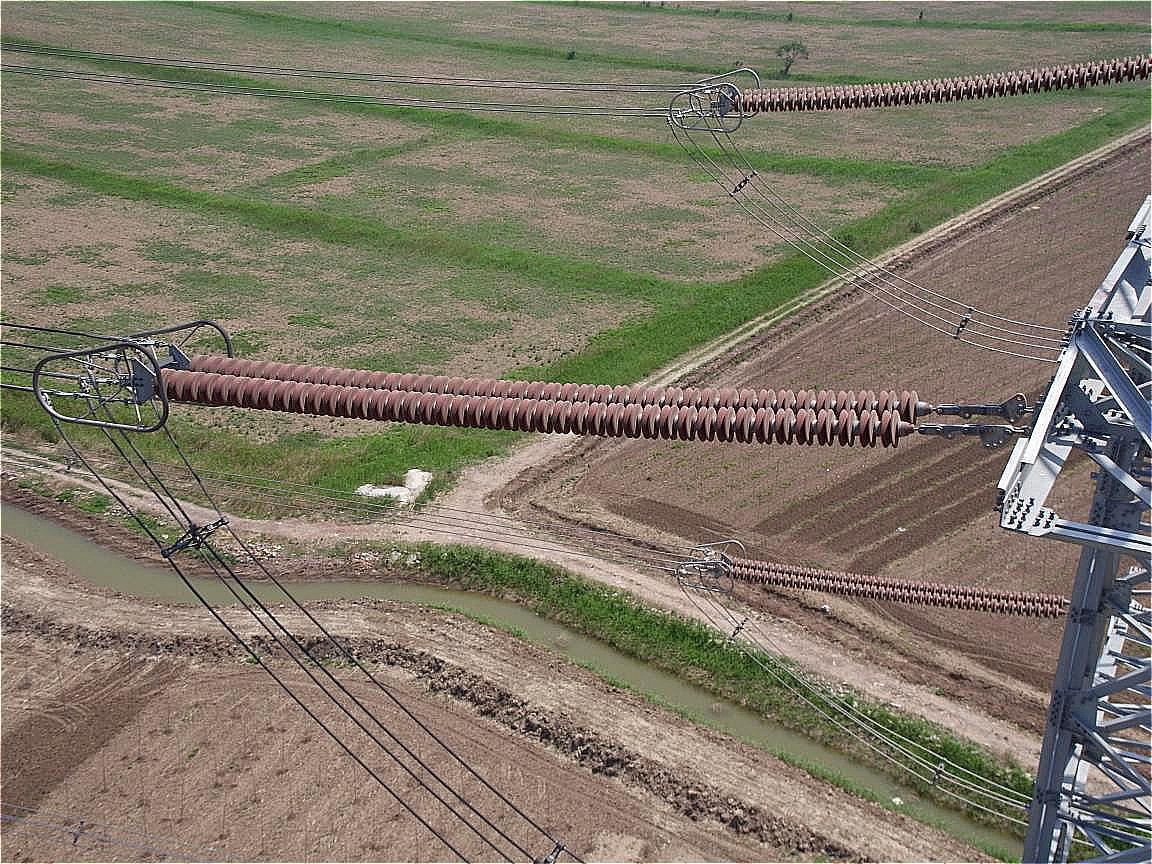insultor2: (143, 332, 931, 474), (726, 34, 1152, 129), (728, 543, 1086, 623)
